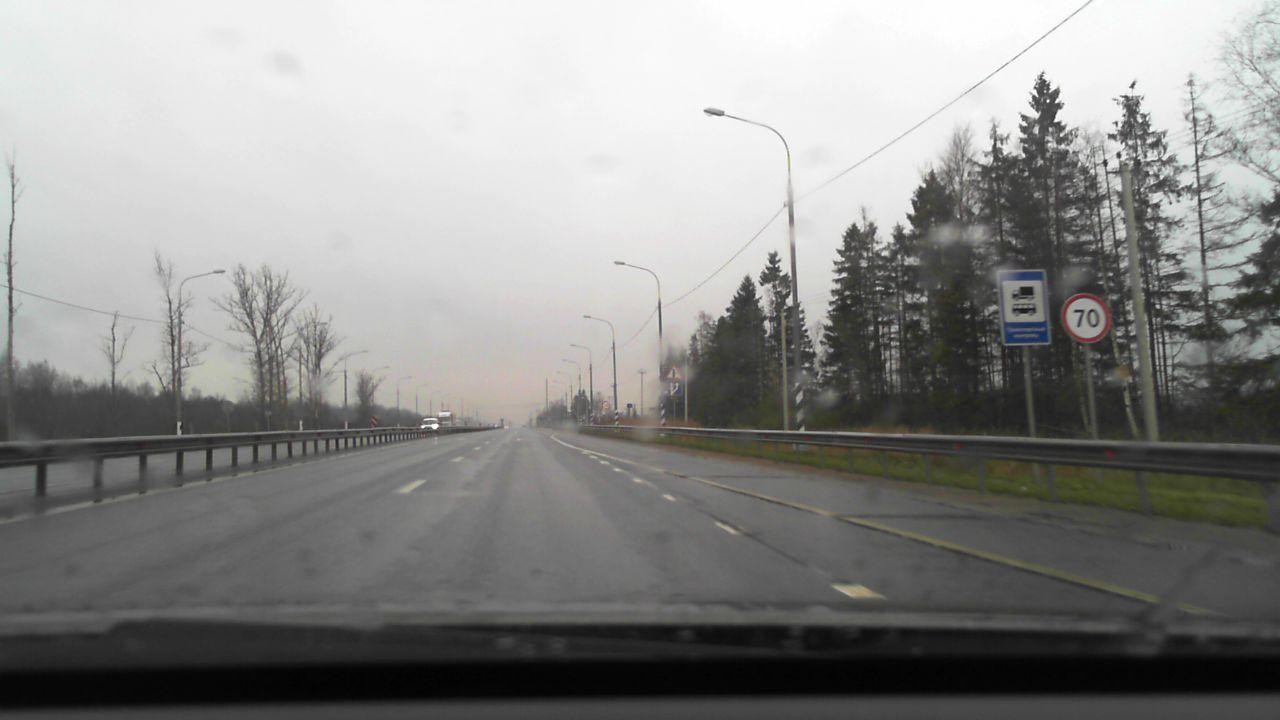2_3_2: (667, 362, 684, 379)
3_24: (1057, 294, 1114, 344)
5_15_3: (668, 380, 682, 397)
7_14_2: (998, 269, 1051, 345)
